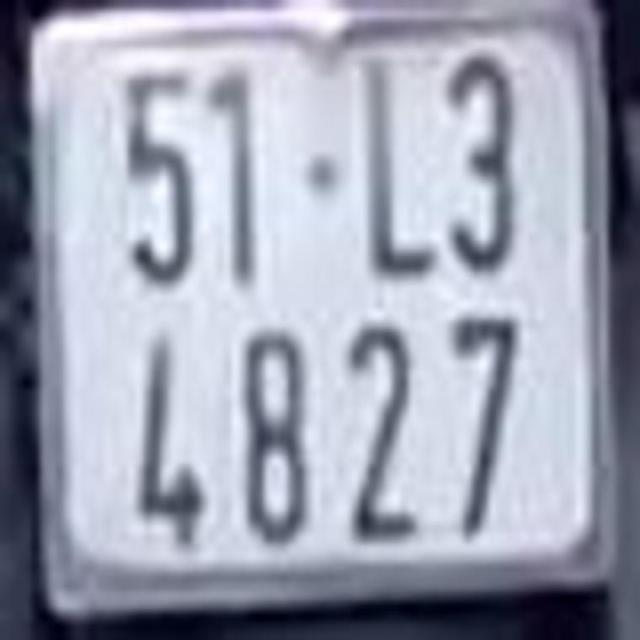1: (207, 70, 265, 284)
2: (348, 323, 416, 536)
3: (451, 52, 512, 268)
4: (138, 338, 209, 543)
5: (126, 70, 197, 284)
7: (449, 315, 514, 543)
8: (244, 331, 312, 544)
L: (356, 59, 436, 274)
